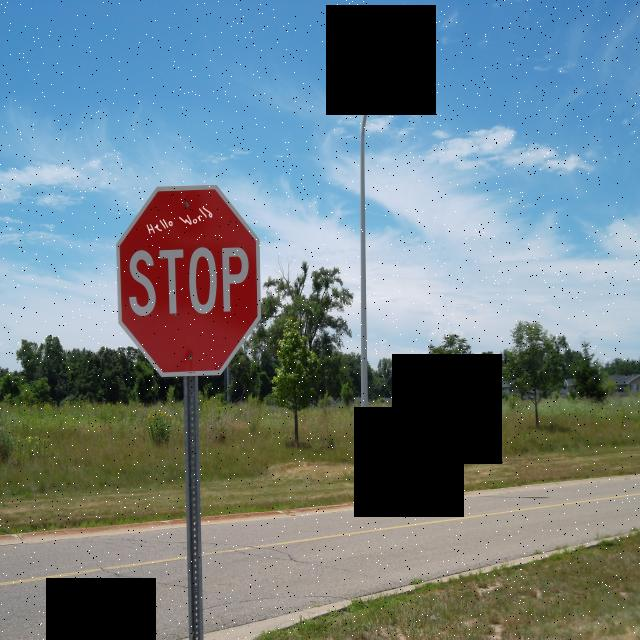stop: (117, 186, 262, 377)
